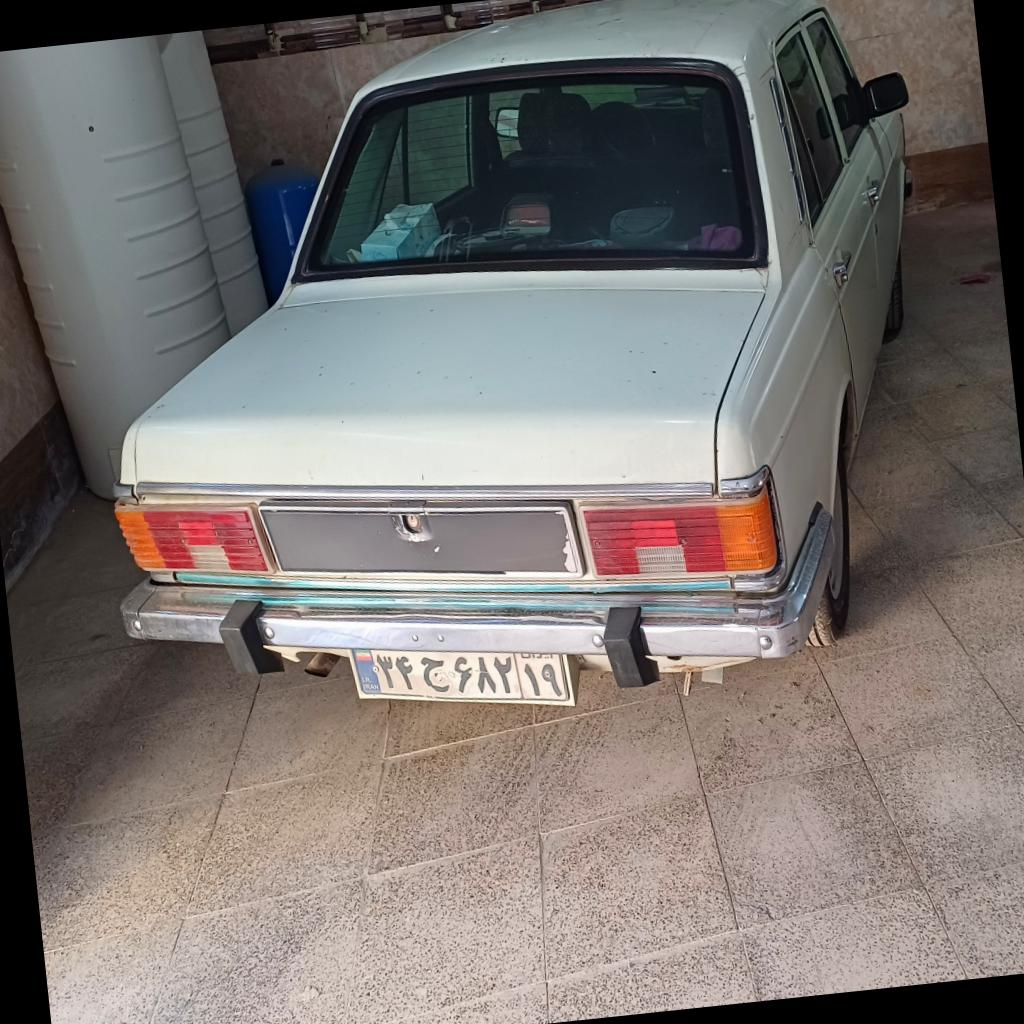Plates: (350, 626, 569, 724)
